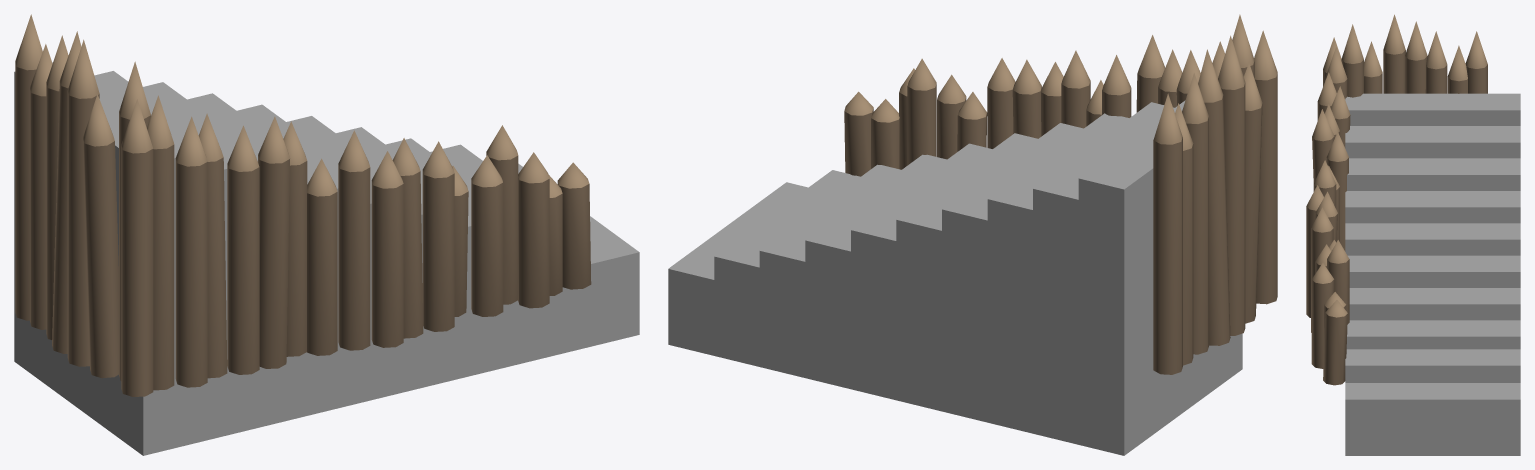
File: Stair_L.fbx
3 renders of one model, left to right at view 1: azimuth 30°, elevation 25°; view 2: azimuth 150°, elevation 25°; view 3: azimuth 270°, elevation 25°, orthographic. The views are drawn at different scales.
Parts seen in each view (by area): view 1: pCube1, Cylinder.009 (×2), Cylinder.010 (×2), Cylinder.001 (×2), Cylinder.017 (×2), Cylinder.005 (×2), Cylinder.087, Cylinder.091, Cylinder.007 (×2), Cylinder.097, Cylinder.084, Cylinder.015 (×2) (+21 smaller); view 2: pCube1, Cylinder.104, Cylinder.010 (×2), Cylinder.009 (×2), Cylinder.007 (×2), Cylinder.005 (×2), Cylinder.017 (×2), Cylinder.001 (×2), Cylinder.103, Cylinder.006 (×2), Cylinder.101, Cylinder.015 (+12 smaller); view 3: pCube1, Cylinder.103, Cylinder.009 (×2), Cylinder.098, Cylinder.005 (×2), Cylinder.008 (×2), Cylinder.003 (×2), Cylinder.006 (×2), Cylinder.095, Cylinder.010, Cylinder.007, Cylinder.004 (×2) (+17 smaller).
Part boxes in pixels (box(x1,y1,x2,y2)): pCube1: box(14, 62, 639, 455); Cylinder.009 (×2): box(67, 91, 454, 366); Cylinder.010 (×2): box(121, 146, 518, 396); Cylinder.001 (×2): box(30, 89, 370, 350); Cylinder.017 (×2): box(83, 139, 468, 378); Cylinder.005 (×2): box(46, 83, 403, 347); Cylinder.087: box(175, 158, 207, 387); Cylinder.091: box(227, 163, 259, 374); Cylinder.007 (×2): box(52, 81, 423, 353); Cylinder.097: box(258, 155, 289, 368); Cylinder.084: box(153, 145, 174, 390); Cylinder.015 (×2): box(119, 112, 503, 380); pCube1: box(668, 100, 1242, 455); Cylinder.104: box(1153, 137, 1182, 374); Cylinder.010 (×2): box(907, 74, 1277, 304); Cylinder.009 (×2): box(987, 83, 1245, 335); Cylinder.007 (×2): box(1012, 87, 1230, 345); Cylinder.005 (×2): box(1041, 92, 1208, 354); Cylinder.017 (×2): box(957, 103, 1262, 323); Cylinder.001 (×2): box(1061, 81, 1193, 365); Cylinder.103: box(844, 108, 873, 176); Cylinder.006 (×2): box(1013, 49, 1223, 102); Cylinder.101: box(871, 118, 899, 169); Cylinder.015: box(937, 97, 966, 159); pCube1: box(1345, 93, 1520, 455); Cylinder.103: box(1323, 313, 1347, 385); Cylinder.009 (×2): box(1311, 50, 1405, 332); Cylinder.098: box(1311, 279, 1334, 368); Cylinder.005 (×2): box(1306, 65, 1447, 317); Cylinder.008 (×2): box(1311, 14, 1405, 232); Cylinder.003 (×2): box(1314, 45, 1467, 188); Cylinder.006 (×2): box(1315, 21, 1427, 217); Cylinder.095: box(1326, 158, 1348, 251); Cylinder.010: box(1327, 259, 1349, 323); Cylinder.007: box(1405, 56, 1427, 93); Cylinder.004 (×2): box(1306, 31, 1447, 210).
Bounding box in the file's own units: 4.8 × 3.39 × 2.44.
